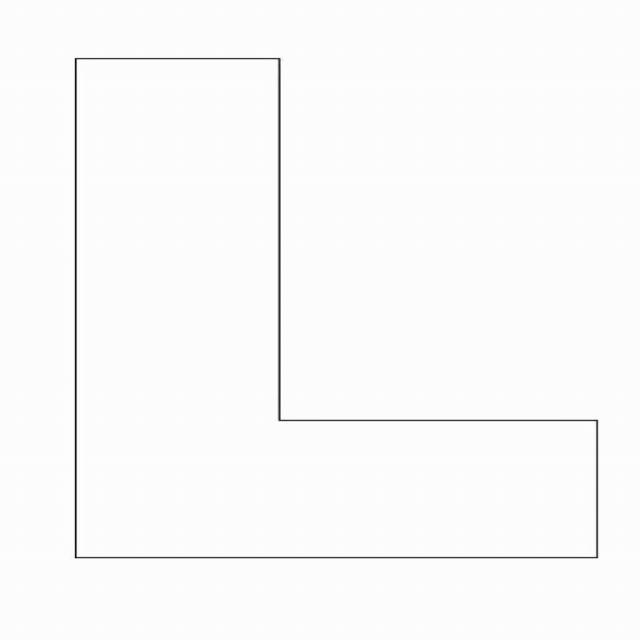L: (24, 32, 615, 584)
